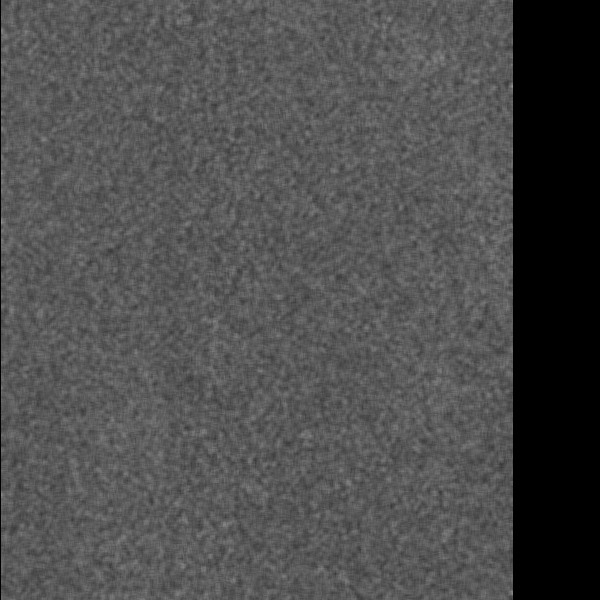spark: (339, 412, 391, 486)
